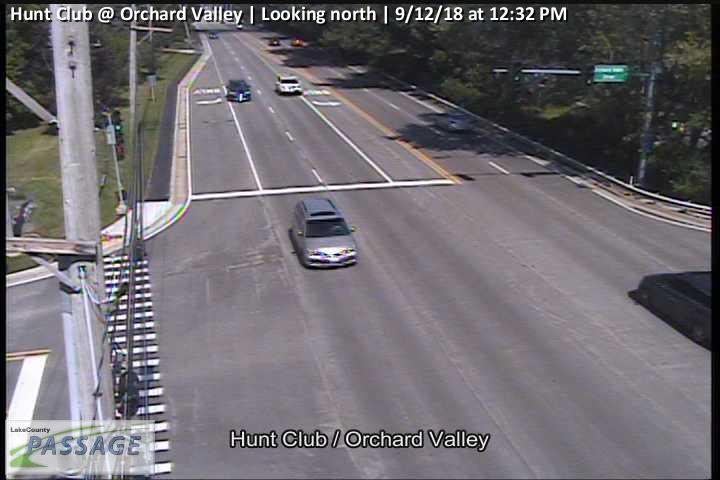SUV: (290, 197, 361, 269)
Sedan: (223, 78, 252, 103), (275, 74, 303, 94)
